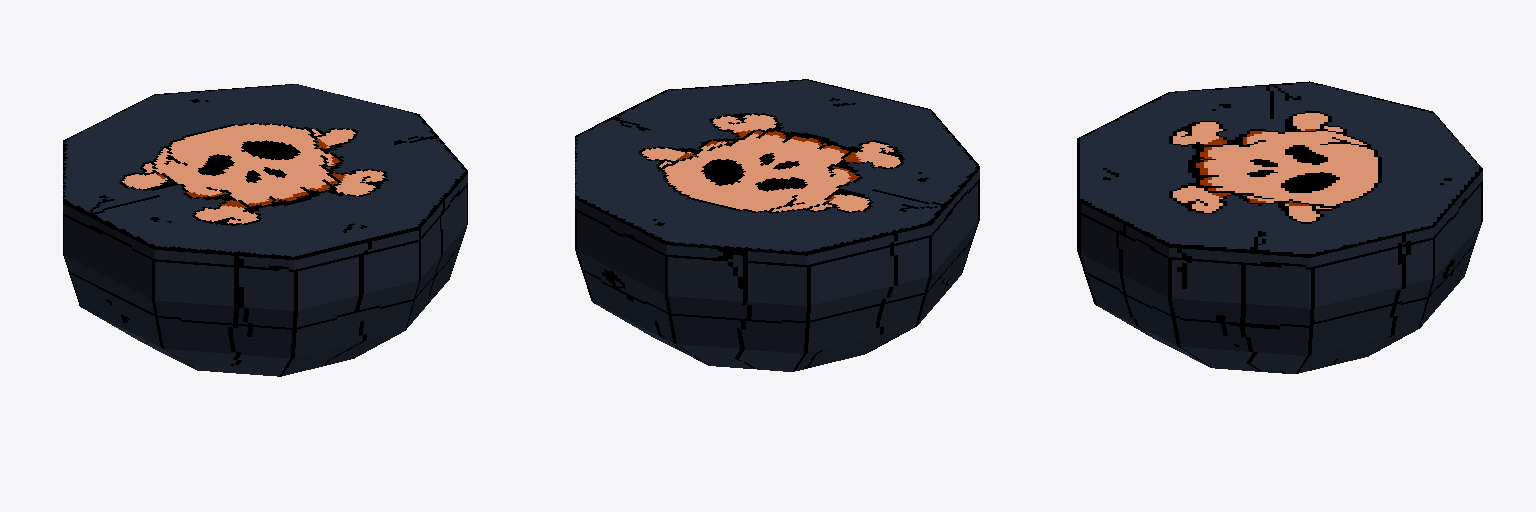
3 views of the same model, side by side, from view 1: azimuth 30°, elevation 25°; view 2: azimuth 150°, elevation 25°; view 3: azimuth 270°, elevation 25° (orthographic).
Visible parts, largest first — view 1: platform; view 2: platform; view 3: platform.
Boxes of the visible parts, x1,y1,x2,y2 form: platform: [63, 84, 467, 376]; platform: [575, 79, 979, 371]; platform: [1077, 81, 1482, 373].
Bounding box in the file's own units: 2 × 0.9393 × 1.97.
1 materials, 1 textured.